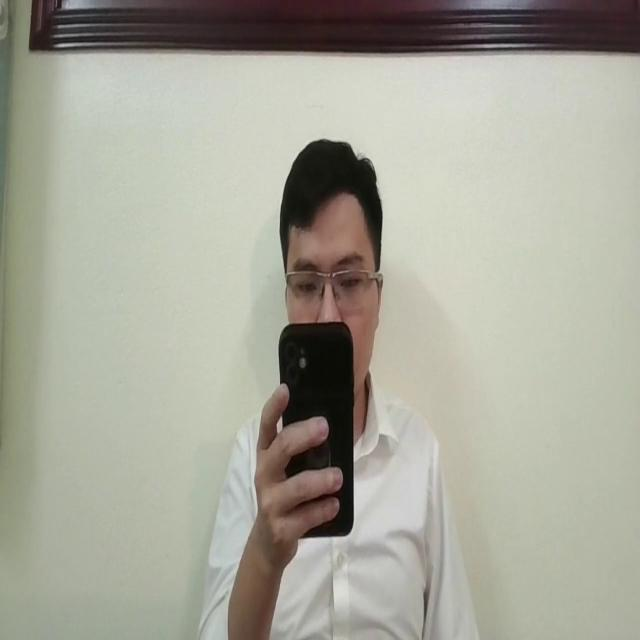phone: (277, 318, 354, 537)
student: (196, 129, 483, 640)
